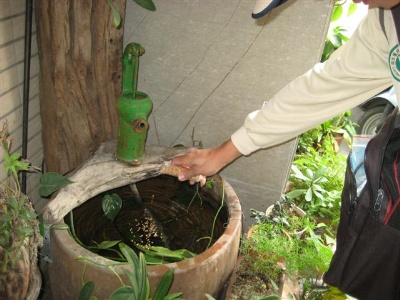bowl: (45, 157, 245, 300)
